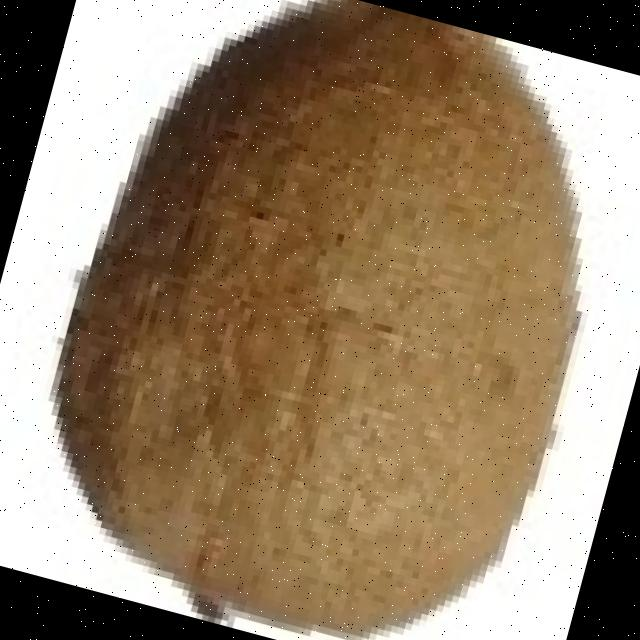kiwi: (64, 10, 579, 640)
